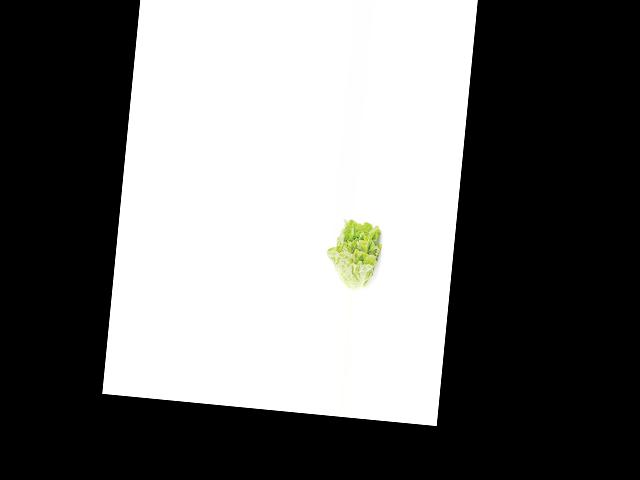lettuce: (324, 217, 387, 292)
